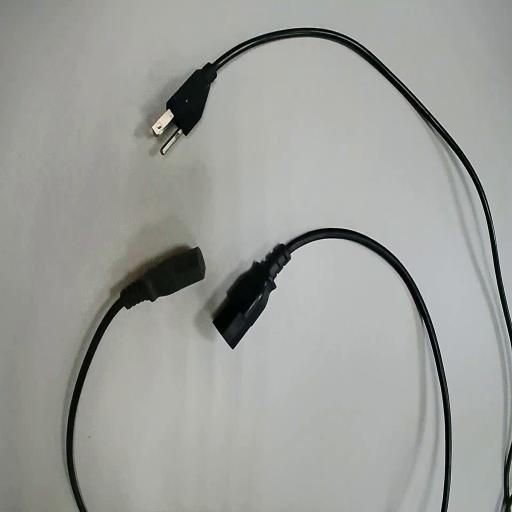wire: (166, 29, 511, 338), (213, 229, 449, 511), (66, 248, 203, 511)
